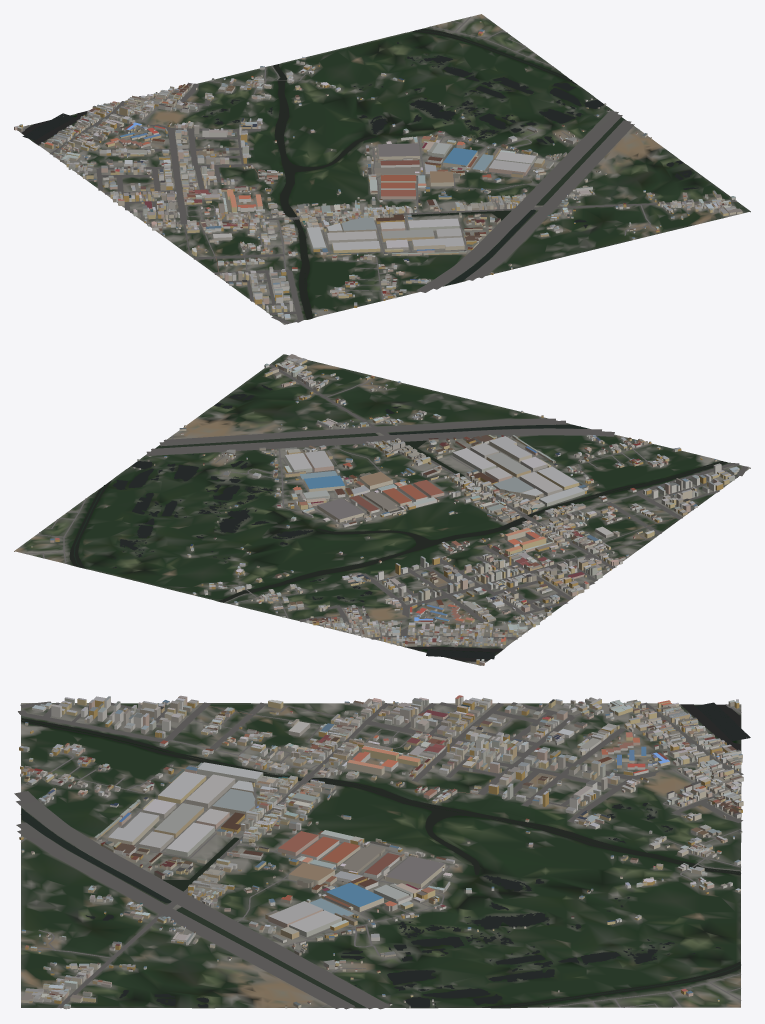
3 renders of one model, top to bottom at view 1: azimuth 30°, elevation 25°; view 2: azimuth 150°, elevation 25°; view 3: azimuth 270°, elevation 25°, orthographic. The views are drawn at different scales.
Parts seen in each view (by area): view 1: ground, buildings, roads, water; view 2: ground, buildings, roads, water; view 3: ground, buildings, roads, water.
Boxes of the visible parts, bbox=[...] form: ground: bbox=[19, 14, 750, 324]; buildings: bbox=[14, 21, 742, 319]; roads: bbox=[20, 16, 736, 324]; water: bbox=[21, 28, 698, 319]; ground: bbox=[14, 354, 750, 665]; buildings: bbox=[31, 354, 739, 665]; roads: bbox=[25, 364, 748, 662]; water: bbox=[69, 385, 727, 661]; ground: bbox=[21, 703, 741, 1008]; buildings: bbox=[19, 695, 743, 1009]; roads: bbox=[14, 701, 743, 1009]; water: bbox=[21, 702, 750, 1008].
Size of the model in its own units: 1417 by 32.6 by 1433.
